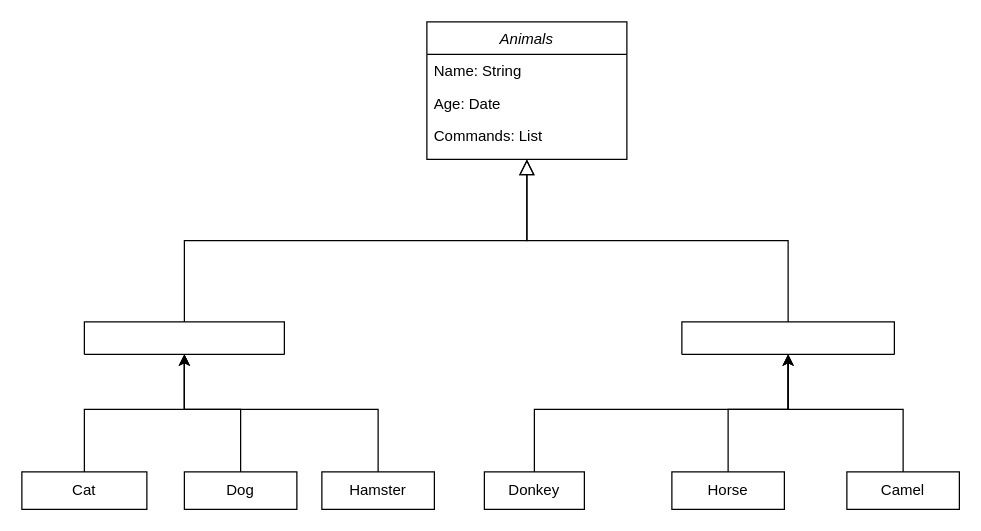
Some shapes in this 981 by 531 pixel diagram are drawn without their labels. The shapes that lost their labels are listed below. From the top down, each one's centre as x and y in pixels, then its label:
pixel 183 337: Pets
pixel 787 337: Pack animals
